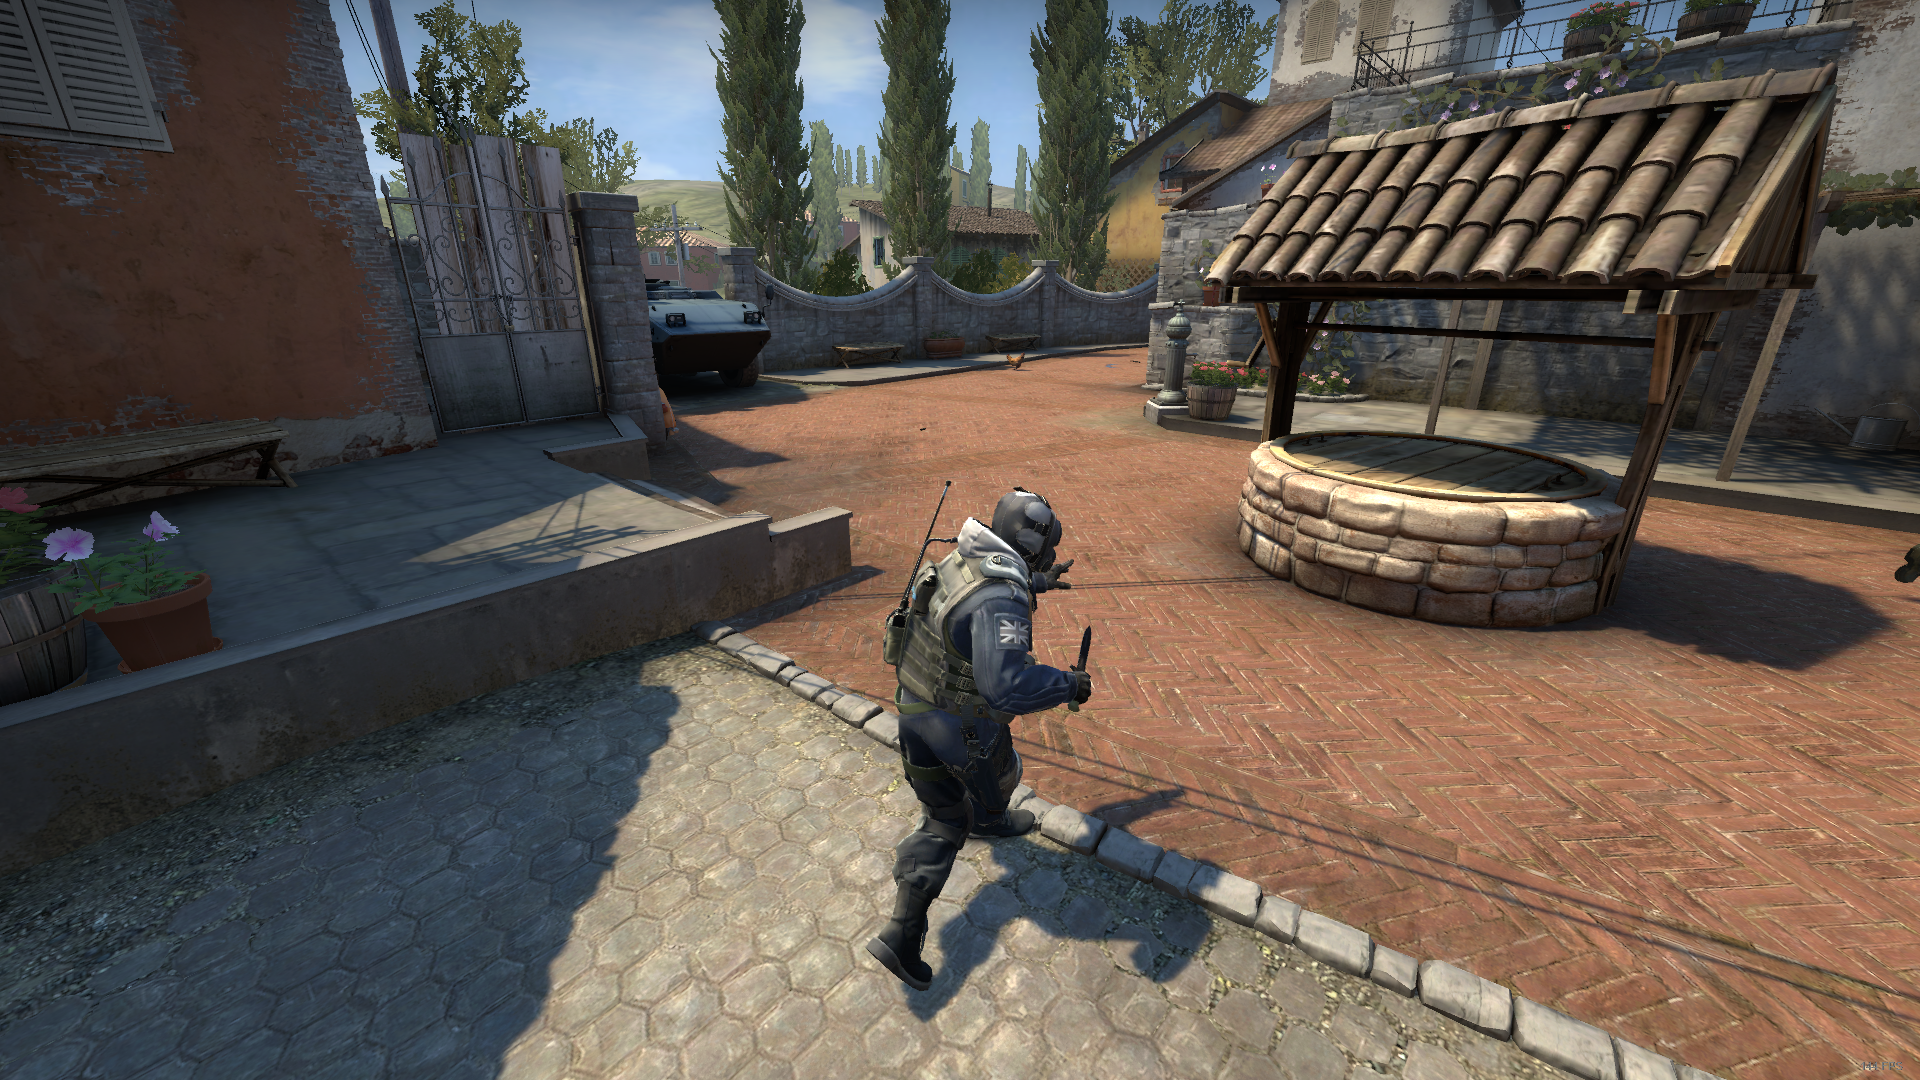ct: (865, 483, 1097, 992)
